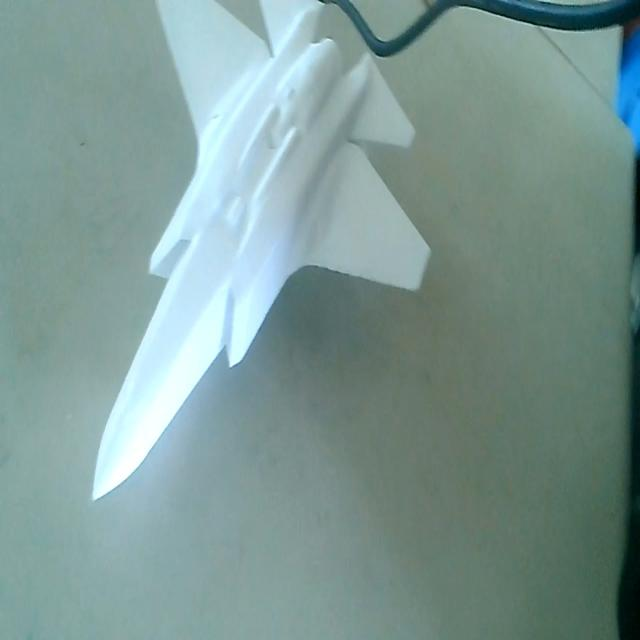Jet: (84, 0, 432, 504)
